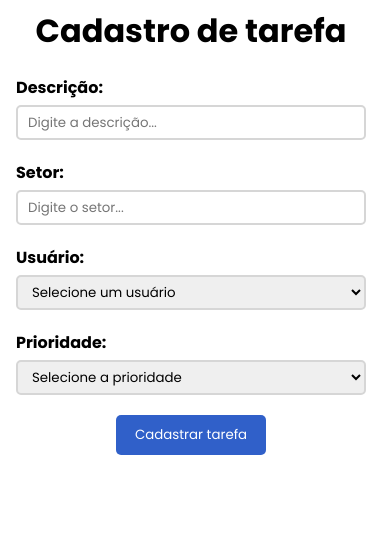
Test: CadTarefa - testes completos › Erro se descrição < 5 caracteres
Type "Abc" into the field labelled "Descrição:" at (191, 122), box [16,105,366,140]
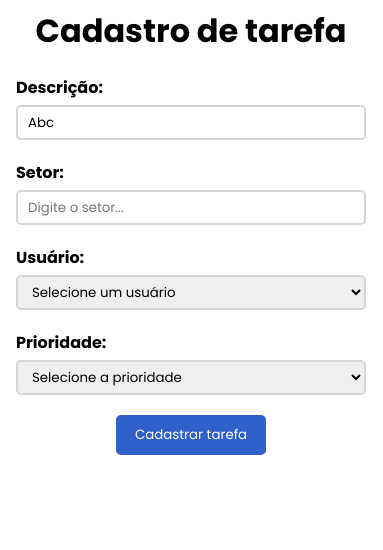
Type "TI" into the field labelled "Setor:" at (191, 208), box [16,190,366,225]
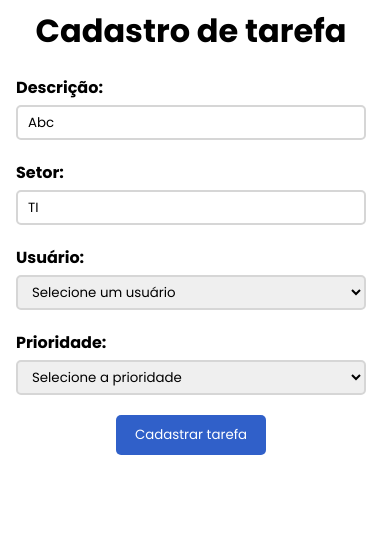
Click the button "Cadastrar tarefa" at (191, 435), box [116,415,266,455]
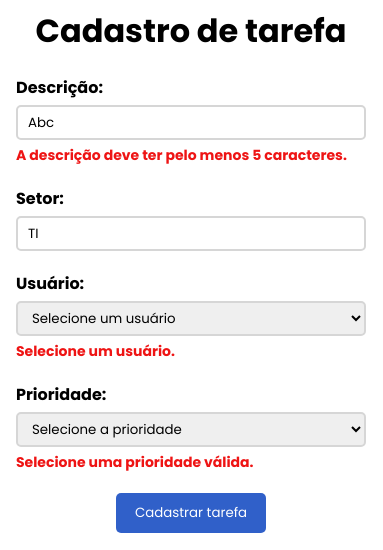
Now the text "A descrição deve ter pelo menos 5 caracteres." is shown, box [16,145,366,166]
